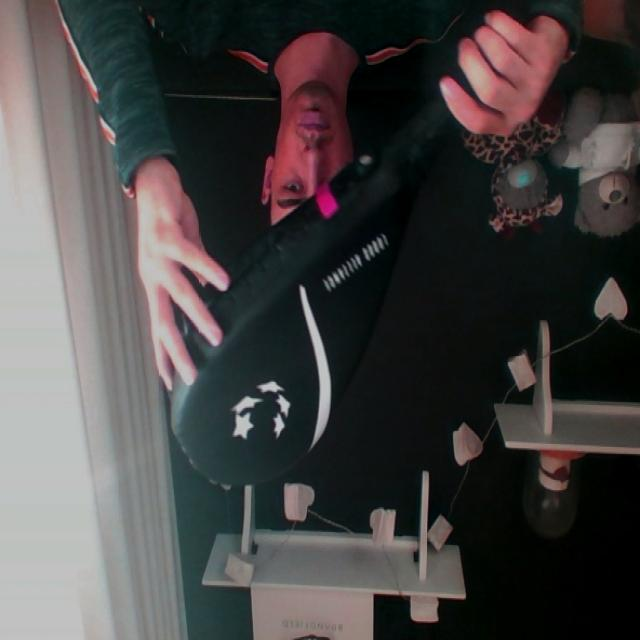paddle: (167, 59, 500, 490)
